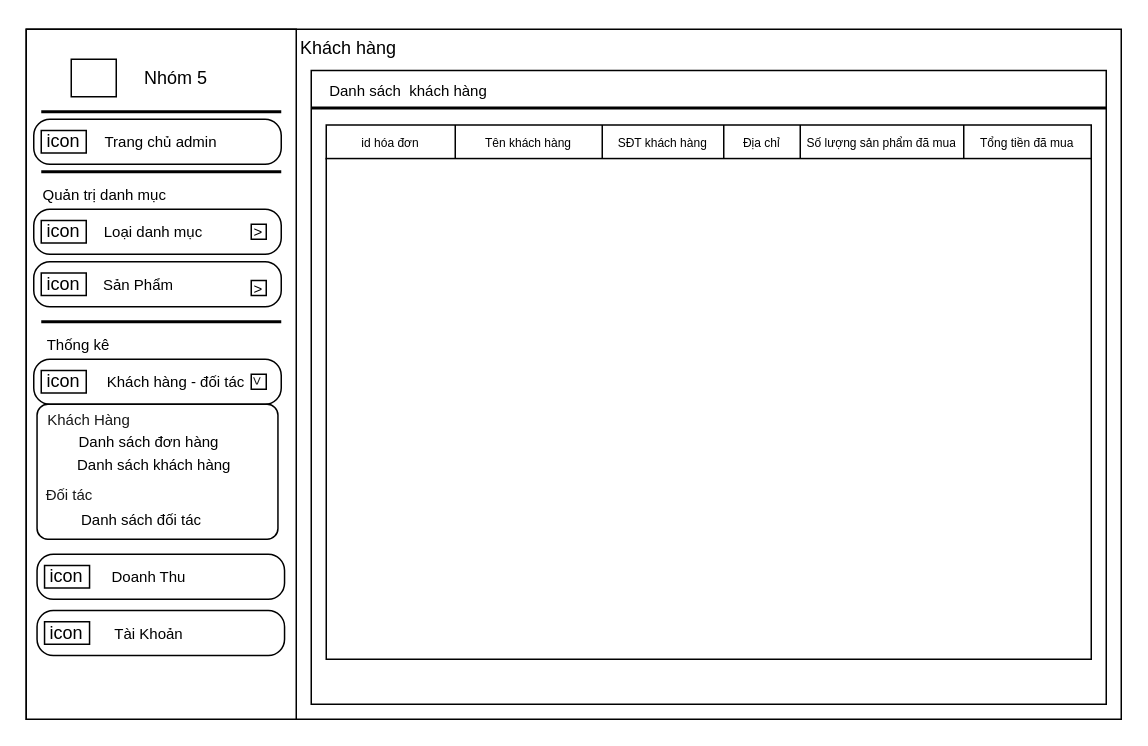
Image size: 1148x746. Some labels were removed from this diagram. Each missing label, with the centre of its shape:
img: pixel 93 77
ListView: pixel 708 408
